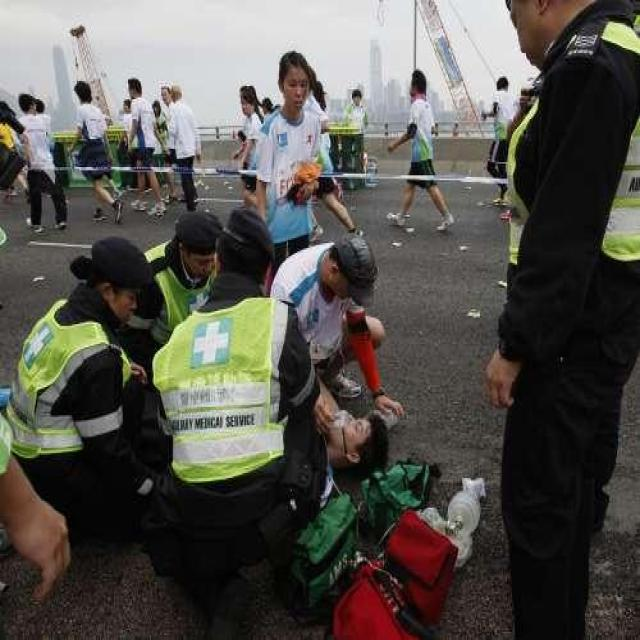10-: (1, 0, 639, 632)
down: (318, 406, 396, 466)
